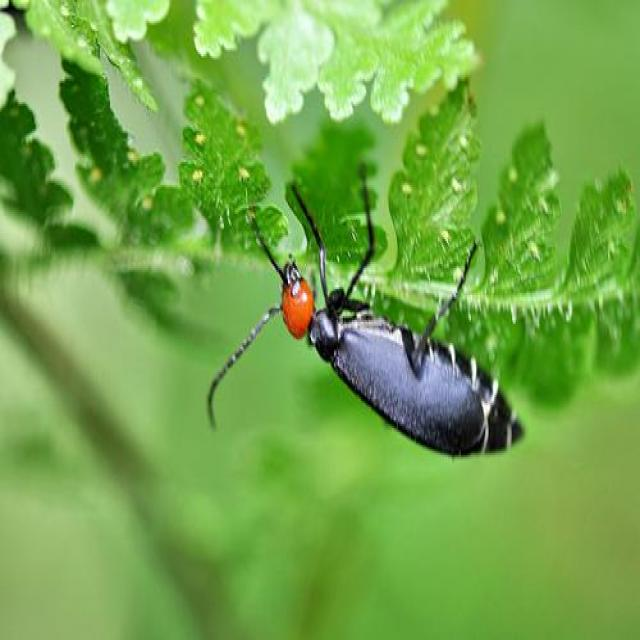BlisterBeetle-Adult-: (197, 156, 536, 480)
